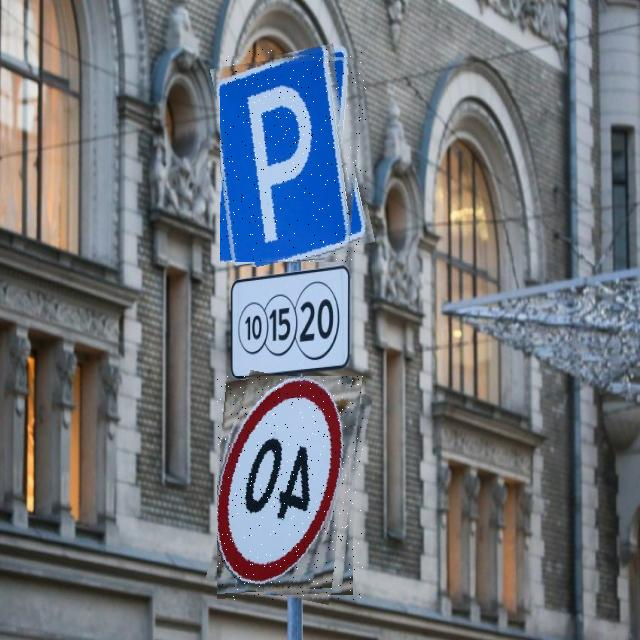parking: (220, 49, 366, 262)
speed limit 40: (217, 376, 363, 600)
